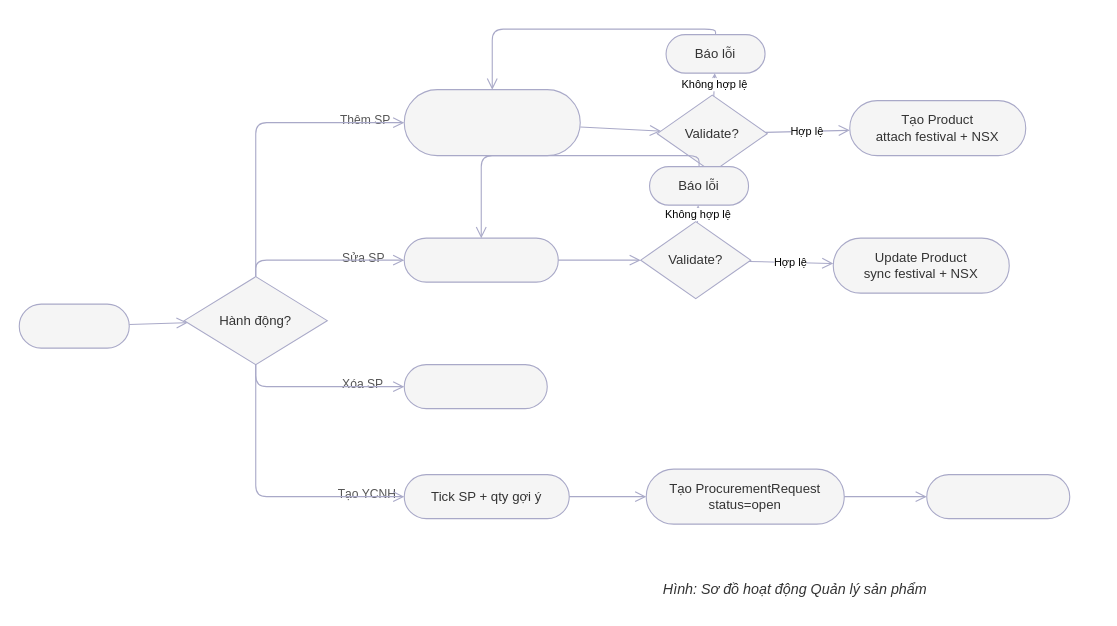
Image size: 1117x626. Some labels were removed from this diagram. Each missing label, with the box of its shape:
Admin: (18, 303, 129, 348)
Form chỉnh sửa: (403, 237, 558, 282)
Form nhập thông tin tên, giá, danh mục, brand, nồng độ...: (403, 89, 580, 156)
NSX thấy và chào giá: (926, 474, 1070, 519)
Xóa Product: (403, 364, 547, 409)
